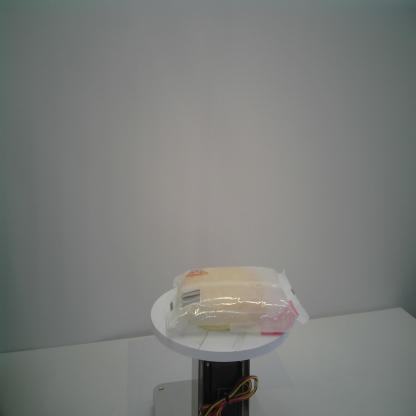Dessert: (164, 262, 312, 343)
